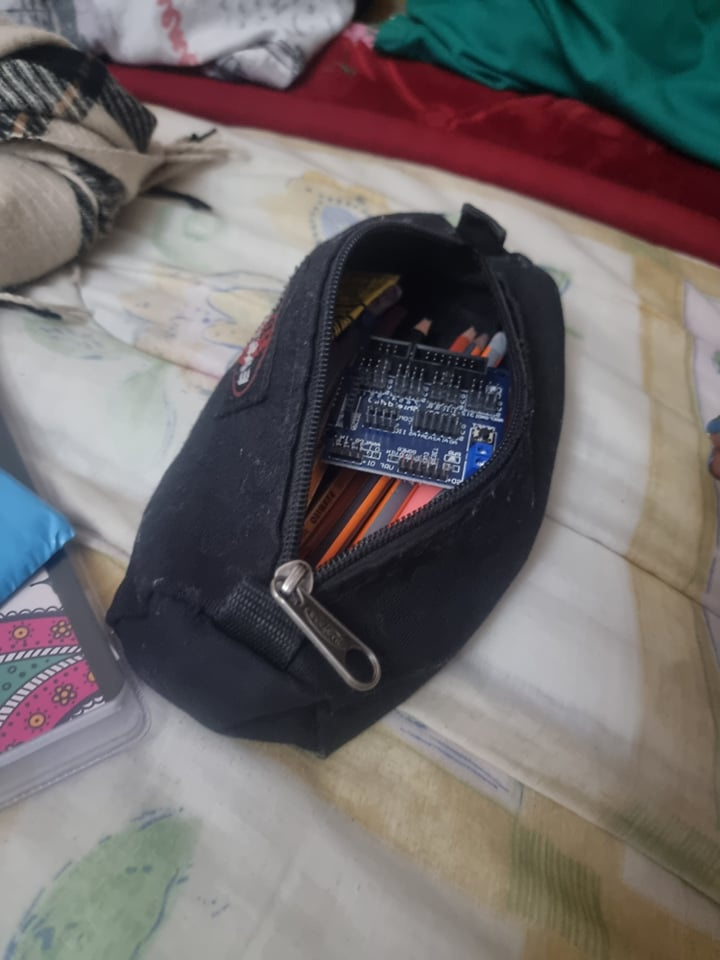5V EXPANSION: (313, 352, 511, 485)
